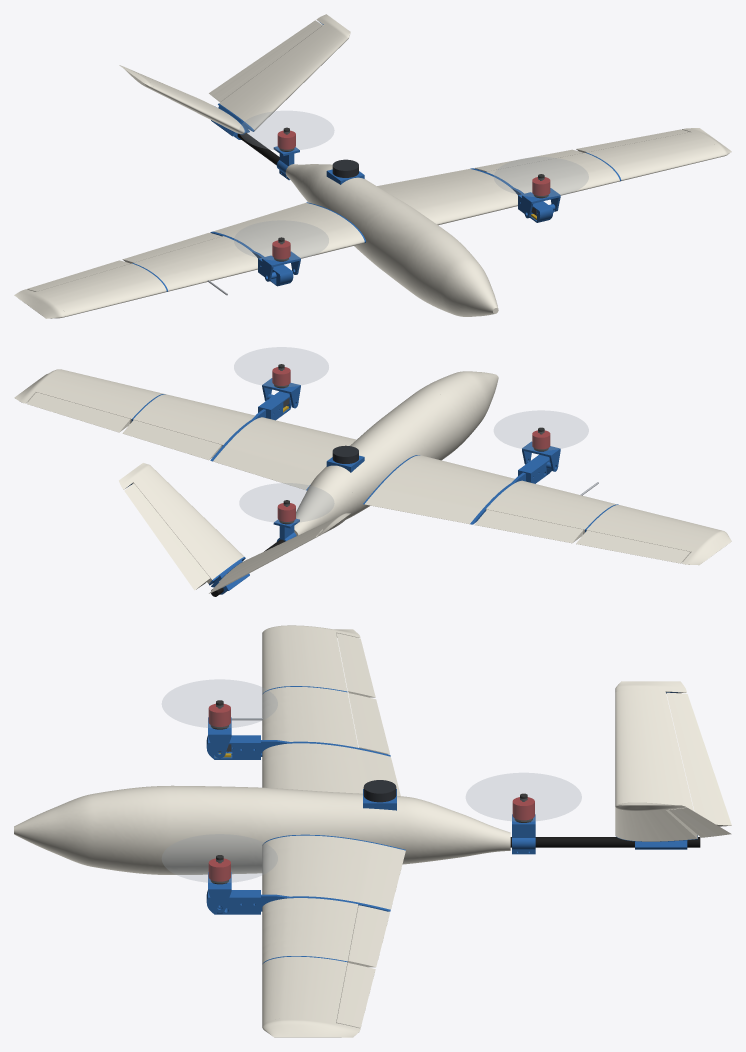
The picture shows the model from 3 angles, top to bottom: view 1: azimuth 30°, elevation 25°; view 2: azimuth 150°, elevation 25°; view 3: azimuth 270°, elevation 25°; orthographic projection. The views are drawn at different scales.
Visible parts, largest first — view 1: fuse_1, wing_root_l, wing_root_r, vtail_l, wing_mid_r, wing_tip_r, wing_tip_l, fuse_3, wing_mid_l, fuse_2, motor_rear_prop, motor_r_prop (+11 smaller); view 2: wing_root_r, wing_root_l, vtail_l, fuse_3, wing_mid_r, wing_mid_l, wing_tip_r, wing_tip_l, motor_rear_prop, motor_r_prop, motor_l_prop, fuse_2 (+15 smaller); view 3: fuse_1, wing_root_l, fuse_3, vtail_r, fuse_2, wing_root_r, wing_mid_l, wing_tip_l, wing_mid_r, wing_tip_r, motor_l_prop, motor_rear_prop (+16 smaller).
Part boxes in pixels (x1,y1,x2,y2): fuse_1: (403, 229, 498, 316); wing_root_l: (377, 169, 517, 225); wing_root_r: (213, 203, 364, 258); vtail_l: (219, 25, 345, 130); wing_mid_r: (134, 236, 257, 291); wing_tip_r: (36, 263, 166, 316); wing_tip_l: (586, 132, 721, 180); fuse_3: (311, 166, 410, 264); wing_mid_l: (487, 153, 619, 195); fuse_2: (369, 205, 446, 292); motor_rear_prop: (239, 111, 334, 150); motor_r_prop: (234, 220, 328, 260); wing_root_r: (364, 455, 514, 524); wing_root_l: (213, 417, 356, 489); vtail_l: (131, 468, 244, 583); fuse_3: (316, 416, 424, 519); wing_mid_r: (486, 480, 616, 534); wing_mid_l: (133, 394, 255, 446); wing_tip_r: (586, 505, 718, 552); wing_tip_l: (36, 370, 163, 423); motor_rear_prop: (239, 483, 334, 522); motor_r_prop: (494, 410, 588, 450); motor_l_prop: (234, 347, 328, 386); fuse_2: (380, 389, 459, 460); fuse_1: (14, 786, 170, 874); wing_root_l: (262, 835, 405, 909); fuse_3: (255, 787, 412, 873); vtail_r: (615, 690, 693, 811); fuse_2: (171, 785, 255, 874); wing_root_r: (262, 743, 400, 796); wing_mid_l: (262, 898, 358, 963); wing_tip_l: (262, 956, 347, 1024); wing_mid_r: (262, 687, 358, 747); wing_tip_r: (262, 627, 347, 693); motor_l_prop: (162, 834, 277, 882); motor_rear_prop: (466, 773, 581, 821).
Bounding box in the file's own units: 1.48 × 0.2172 × 1.1.
